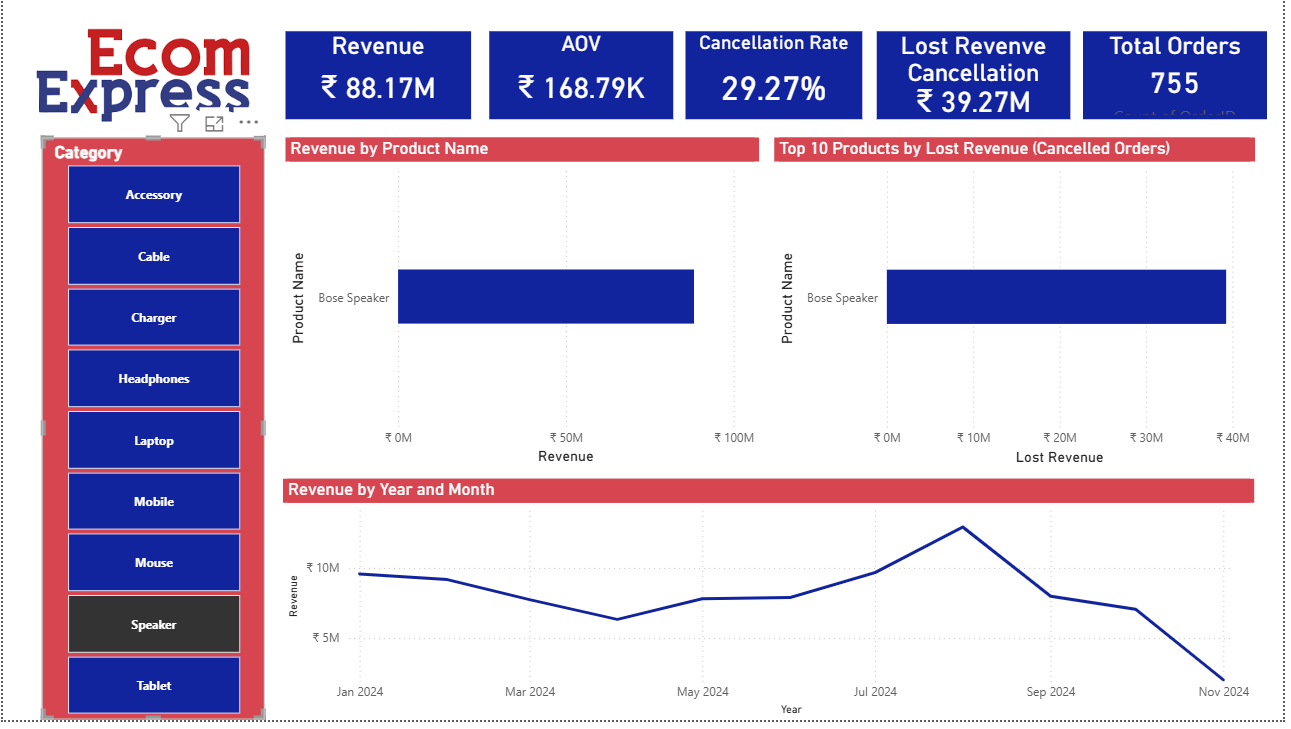

What the dashboard file says about the page in this screenshot:
{"tool":"powerbi","page":{"name":"Page 1","canvas":[1280,720],"ordinal":0},"visuals":[{"type":"image","box":[0,13.7,279.9,123.5],"z":0},{"type":"barChart","fields":{"Y":["table.Revenue"],"Category":["Product.Product Name"]},"box":[282.7,137.2,473.4,332.1],"z":1000},{"type":"barChart","title":"Top 10 Products by Lost Revenue (Cancelled Orders)","fields":{"Category":["Product.Product Name"],"Y":["table.lost_rev_cancellation"]},"box":[770.8,137.3,480.4,332.6],"z":2000},{"type":"lineChart","fields":{"Y":["table.Revenue"],"Category":["Orders.Date and time of purchase.Variation.Date Hierarchy.Year","Orders.Date and time of purchase.Variation.Date Hierarchy.Month"]},"box":[279.9,478.9,971.5,241.5],"z":3000},{"type":"card","title":"Revenue","fields":{"Values":["table.Revenue"]},"box":[282.7,31.6,185.2,87.8],"z":4000},{"type":"card","title":"Total Orders","fields":{"Values":["CountNonNull(Orders.OrderID)"]},"box":[1079.9,31.6,183.9,87.8],"z":5000},{"type":"card","title":"AOV","fields":{"Values":["table.AOV"]},"box":[485.8,31.6,183.9,87.8],"z":6000},{"type":"card","title":"Cancellation Rate","fields":{"Values":["table.Cancellation Rate"]},"box":[682,31.6,177,87.8],"z":7000},{"type":"card","title":"Lost Revenve Cancellation","fields":{"Values":["table.lost_rev_cancellation"]},"box":[874.1,31.6,193.5,87.8],"z":8000},{"type":"slicer","fields":{"Values":["Product.Category"]},"box":[38.4,137.2,222.3,583.2],"z":9000}]}

Visuals, with their boxes in screenshot pixels (x1, y1, x2, y2):
image: box(3, 14, 282, 136)
barChart - table.Revenue x Product.Product Name: box(285, 136, 755, 467)
"Top 10 Products by Lost Revenue (Cancelled Orders)" barChart: box(770, 137, 1248, 467)
lineChart - table.Revenue x Orders.Date and time of purchase.Variation.Date Hierarchy.Year: box(282, 476, 1248, 717)
"Revenue" card: box(285, 31, 469, 119)
"Total Orders" card: box(1077, 31, 1260, 119)
"AOV" card: box(487, 31, 669, 119)
"Cancellation Rate" card: box(682, 31, 858, 119)
"Lost Revenve Cancellation" card: box(873, 31, 1065, 119)
slicer - Product.Category: box(42, 136, 263, 717)
